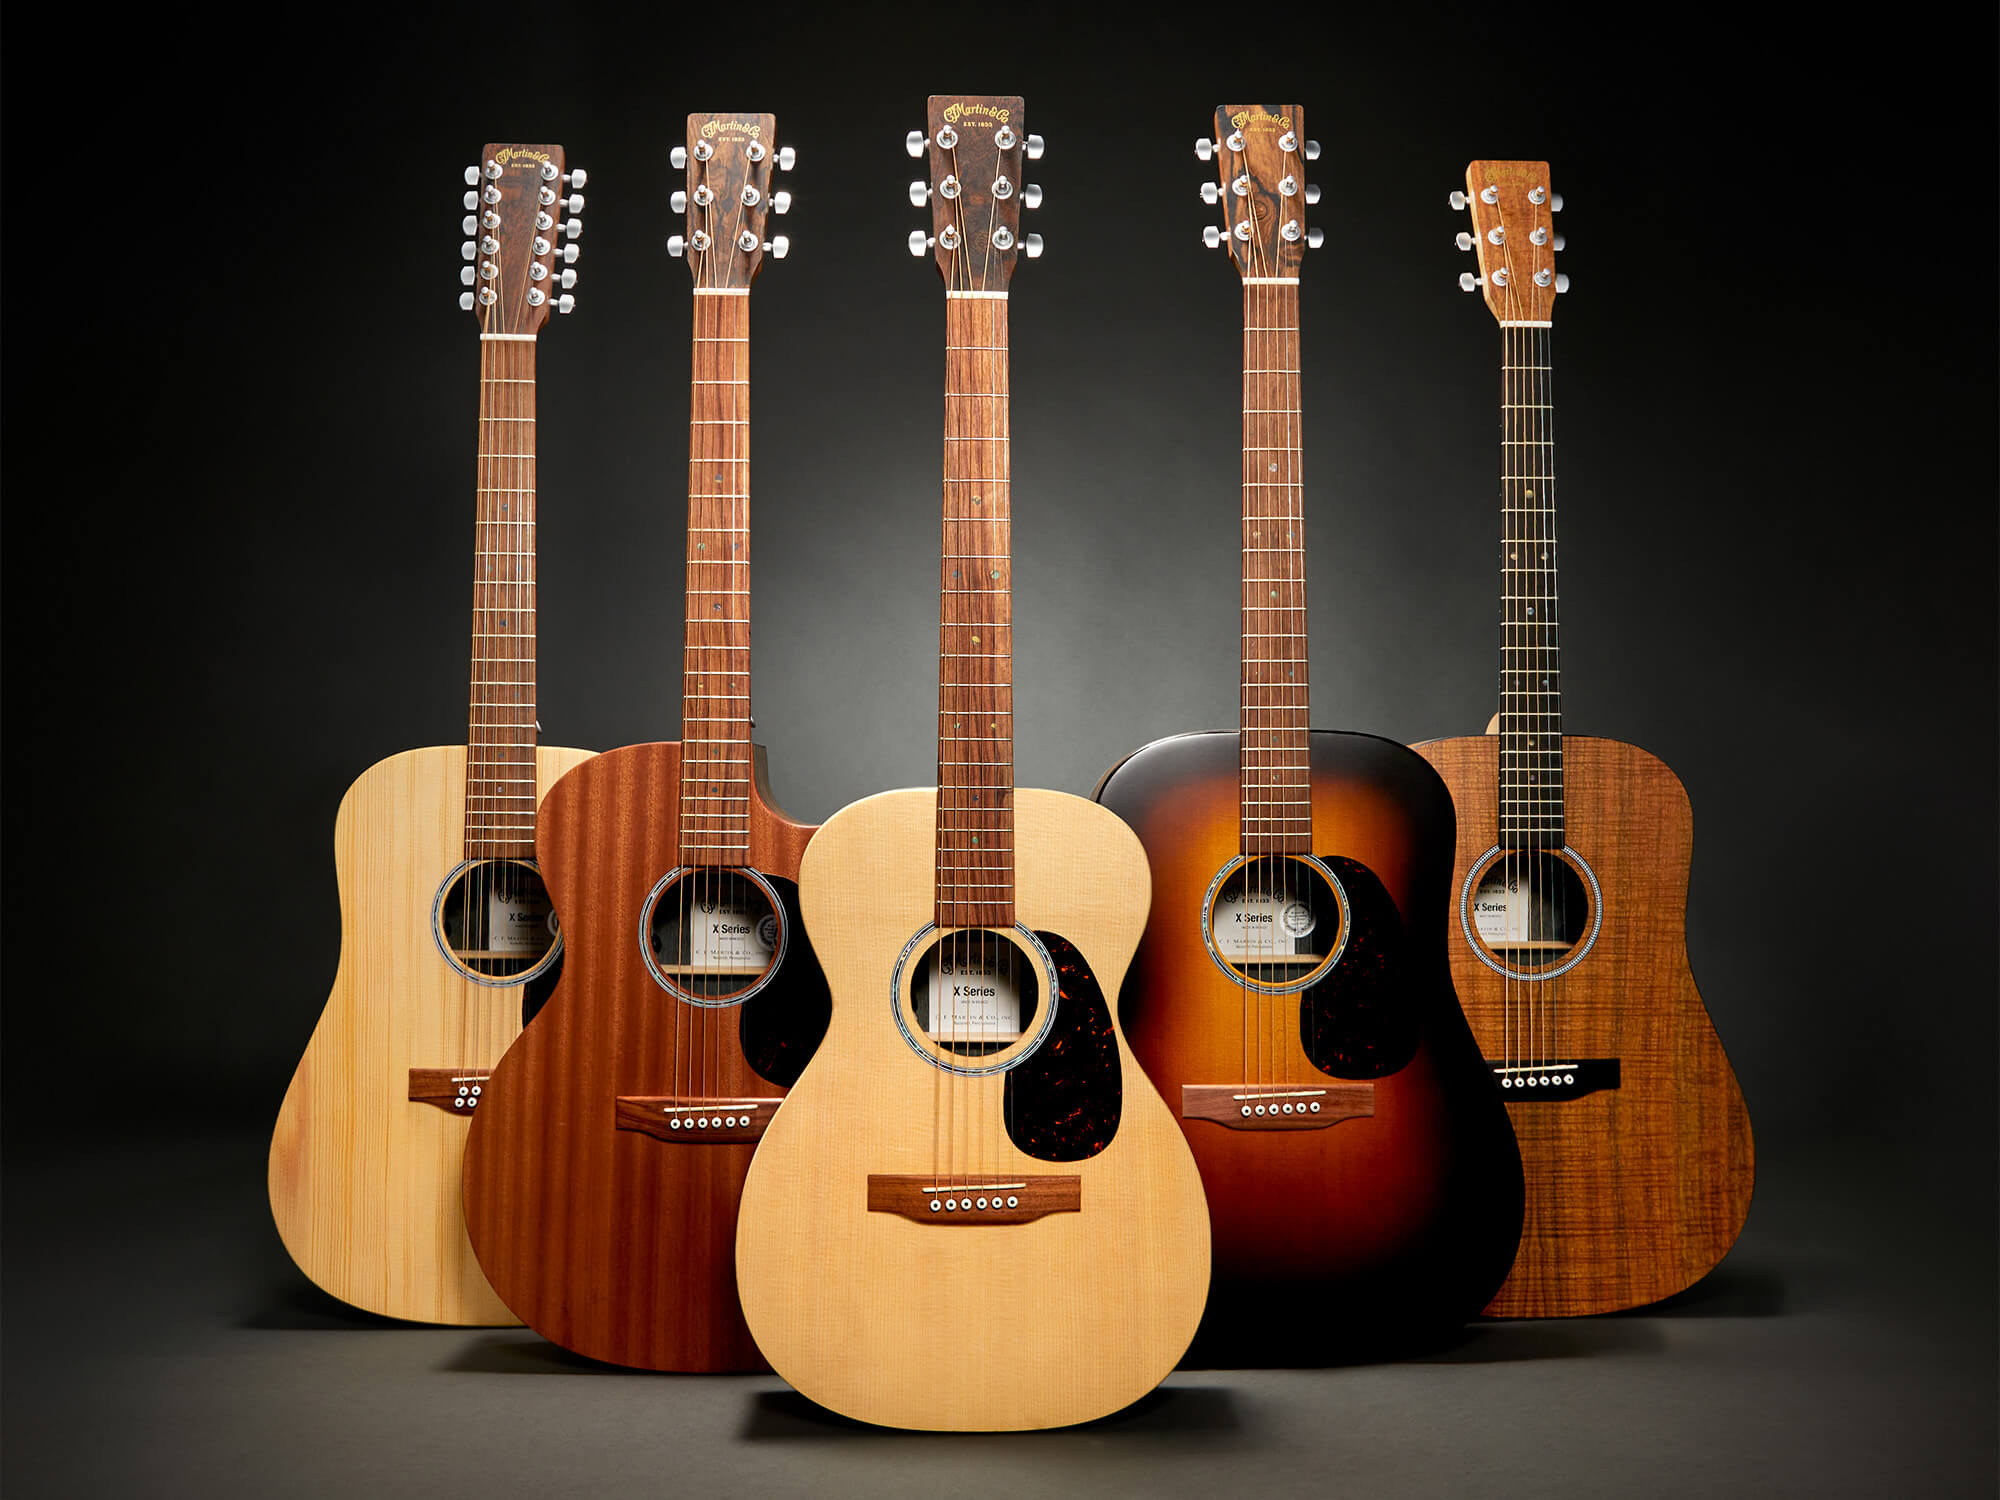guitar: (258, 132, 1759, 1357), (731, 54, 1209, 1434), (1087, 101, 1520, 1368), (269, 140, 605, 1358), (1417, 151, 1757, 1330), (631, 115, 808, 1024)
